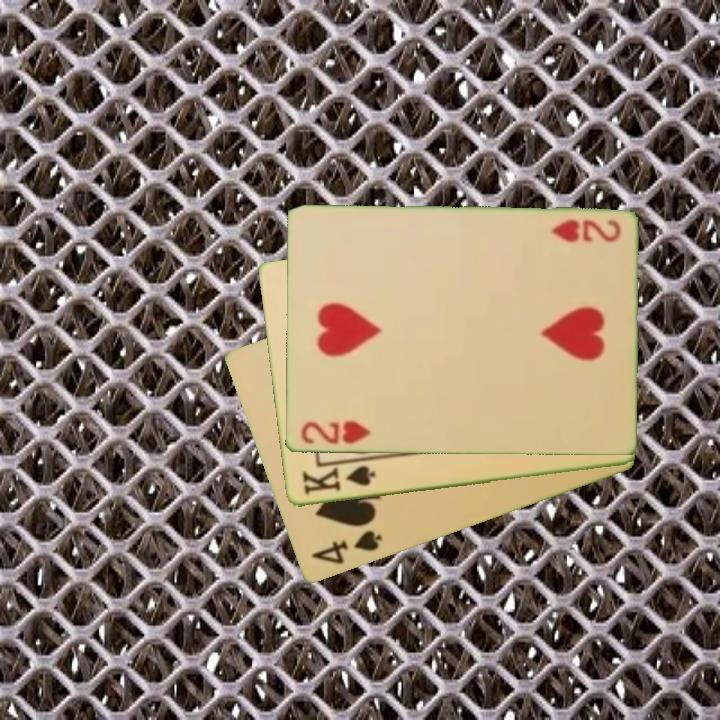2h: (297, 418, 373, 448), (548, 217, 623, 246)
4s: (307, 527, 385, 568)
Ks: (299, 462, 378, 499)
